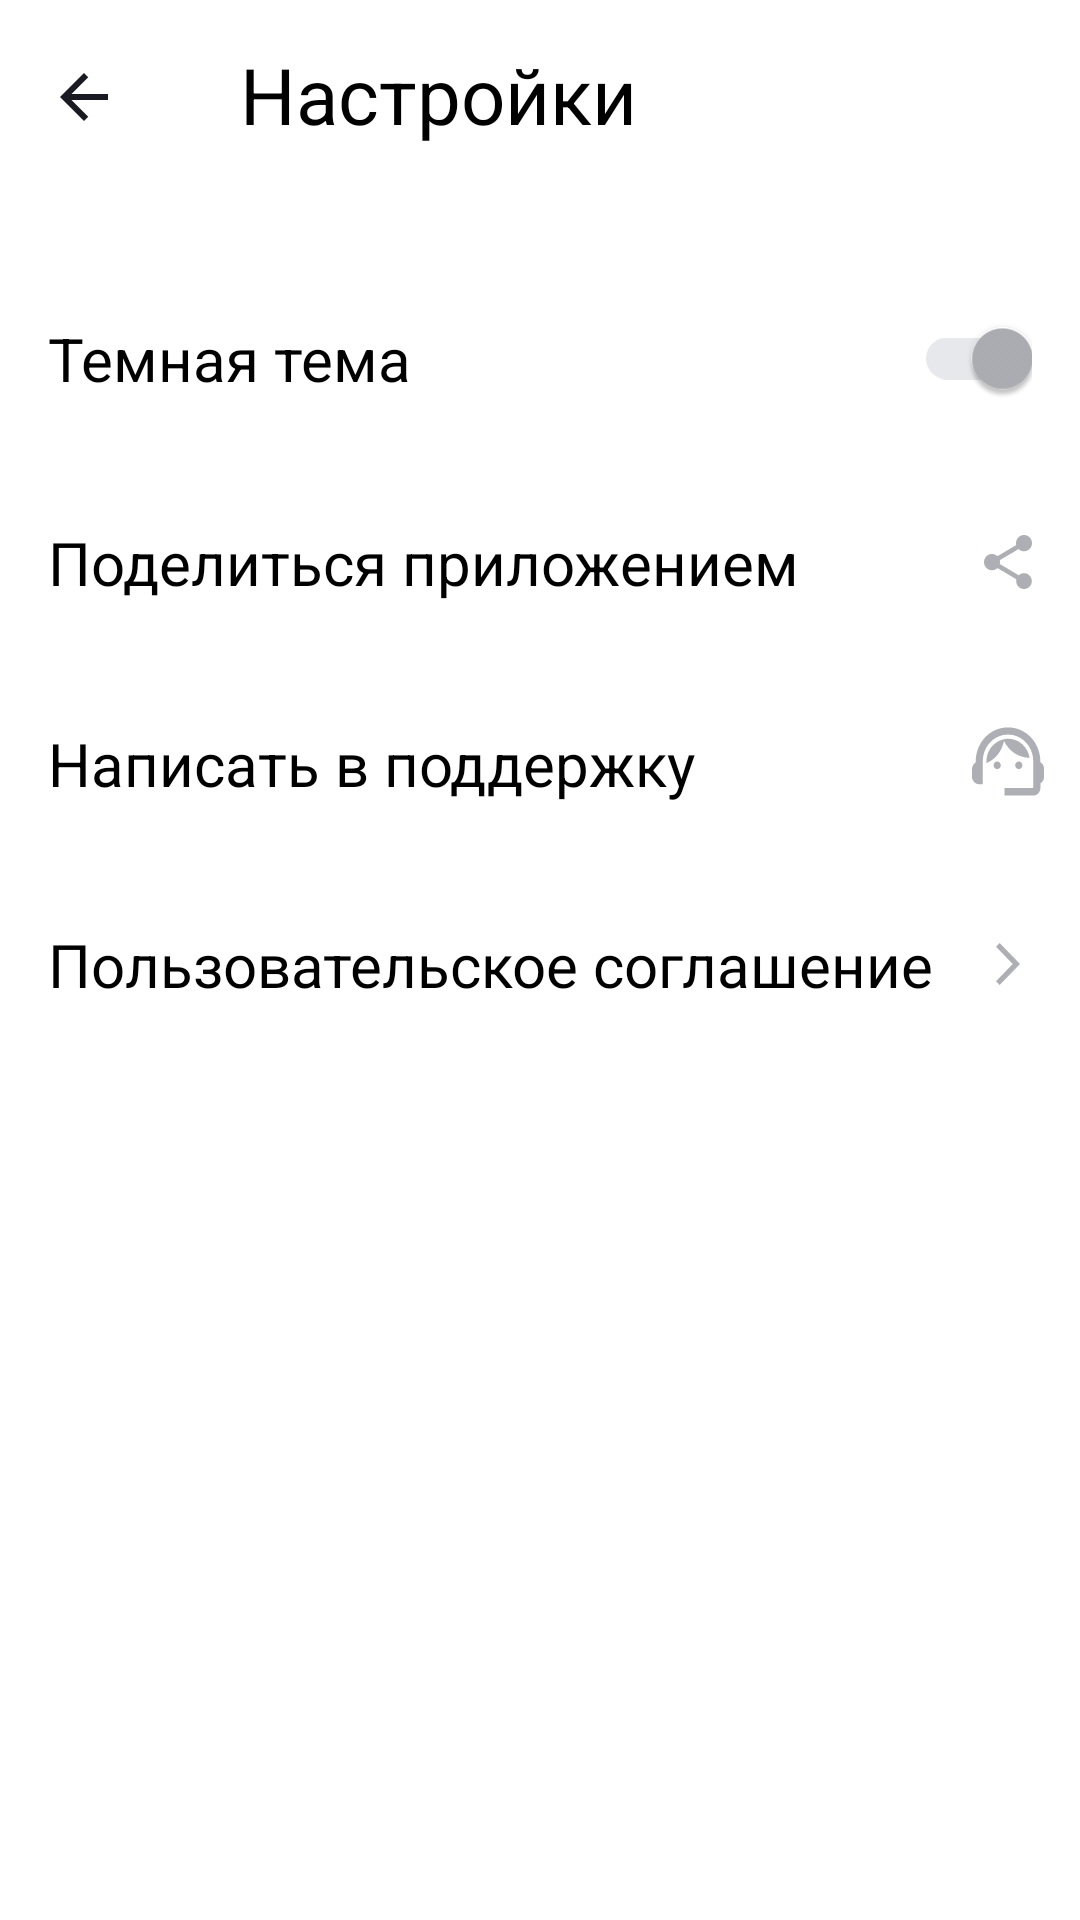

Screen size 1080 × 1920. Icon name, then its box in pixels as (x1=x1, y1=y1, x2=x2, y2=y2):
arrow back: (x1=60, y1=73, x2=108, y2=121)
arrow forward: (x1=996, y1=943, x2=1020, y2=985)
share: (x1=984, y1=535, x2=1032, y2=589)
support: (x1=972, y1=727, x2=1044, y2=796)
